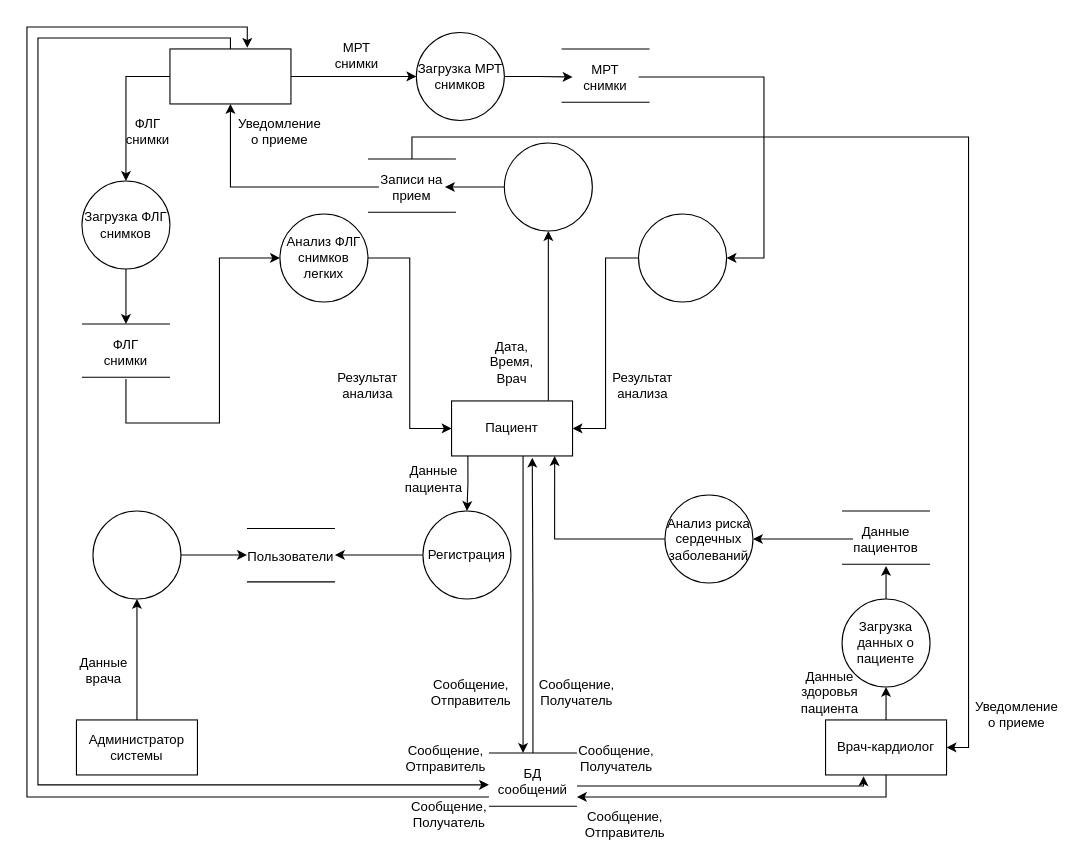
This 1077x860 diagram has some shape labels left out. Each missing label, with the centre of its shape:
"Анализ МРТ снимков мозга" belongs at [682,257].
"Ввод данных врача" belongs at [136,554].
"Врач-рентгенолог" belongs at [230,76].
"Регистрация на прием" belongs at [547,186].
